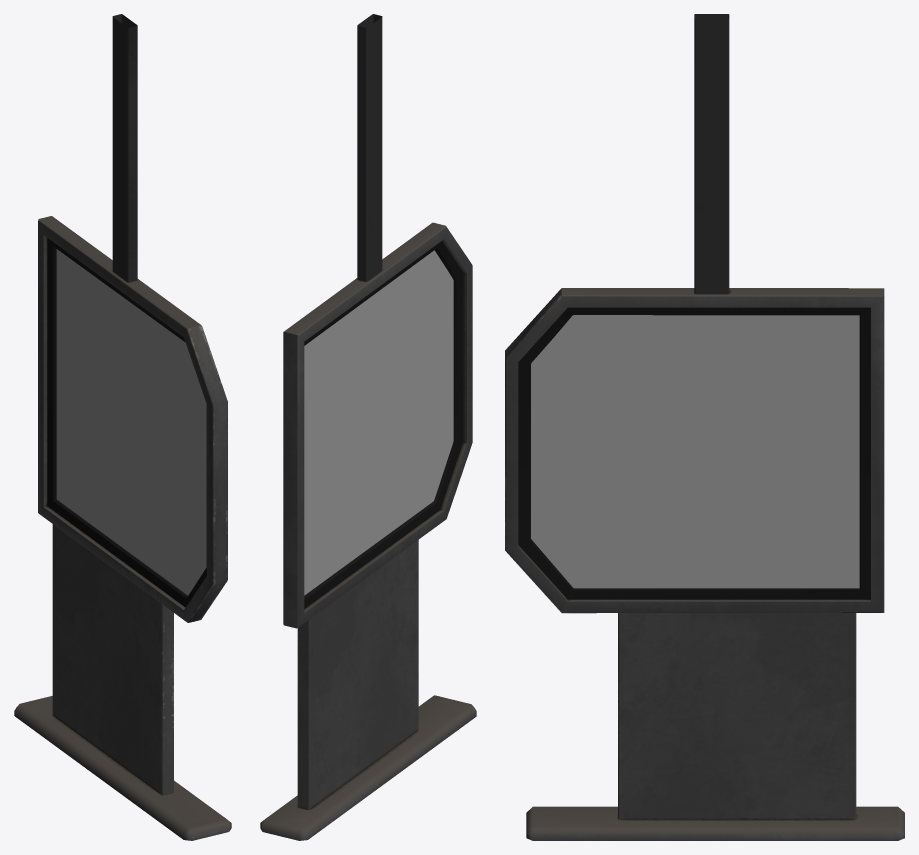
Rendered from Panel.fbx.
The picture shows the model from 3 angles, left to right: view 1: azimuth 30°, elevation 25°; view 2: azimuth 150°, elevation 25°; view 3: azimuth 270°, elevation 25°; orthographic projection. The views are drawn at different scales.
Parts seen in each view (by area): view 1: SR_Panel; view 2: SR_Panel; view 3: SR_Panel.
Boxes of the visible parts, bbox=[...] form: SR_Panel: bbox=[14, 14, 231, 840]; SR_Panel: bbox=[260, 14, 476, 840]; SR_Panel: bbox=[505, 14, 904, 840].
Bounding box in the file's own units: 22.08 × 332 × 148.
